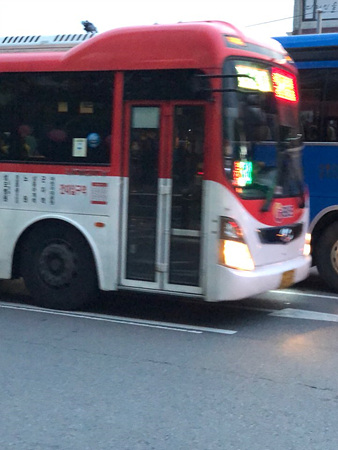entrance: (122, 96, 209, 297)
